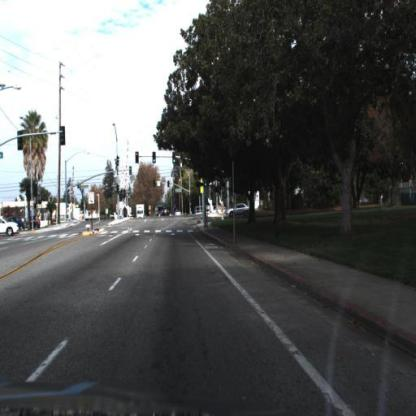car: (1, 215, 20, 237), (226, 205, 252, 221), (27, 215, 42, 229), (159, 204, 171, 220), (174, 207, 184, 221)
trafficLight-Green: (172, 152, 178, 165), (153, 152, 158, 165), (153, 150, 157, 166)
trafficLight-RedLeft: (135, 148, 142, 169), (135, 151, 140, 163)
truck: (133, 200, 144, 221)
